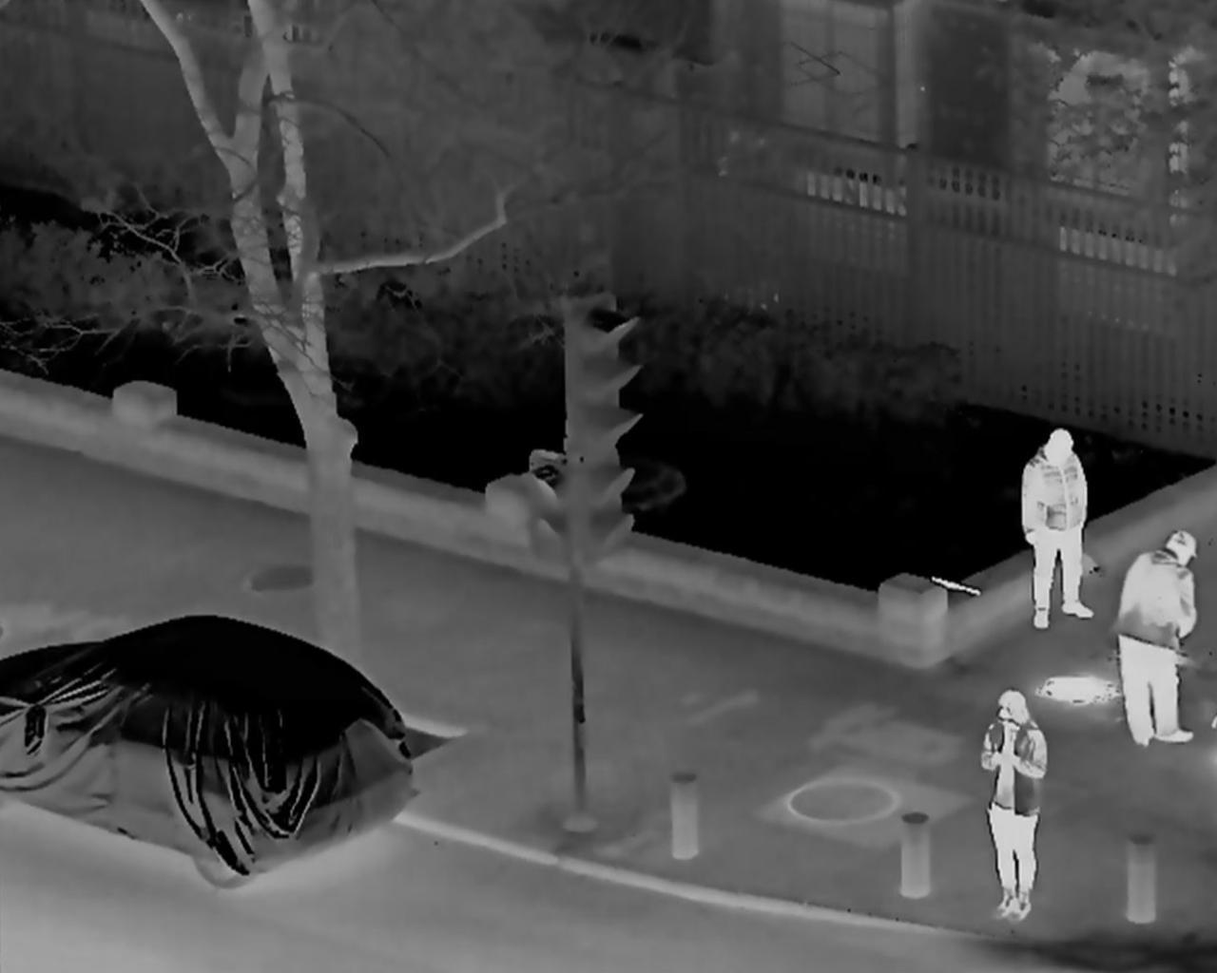person: (1114, 528, 1192, 752), (1015, 428, 1100, 629), (981, 693, 1045, 928)
